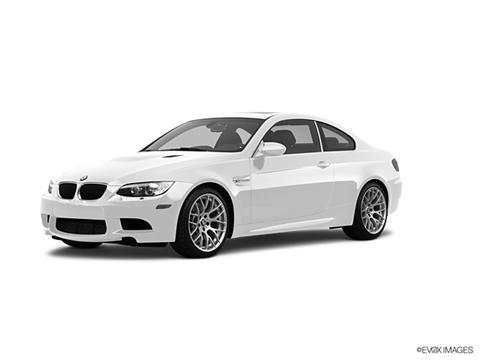car: (39, 111, 404, 261)
